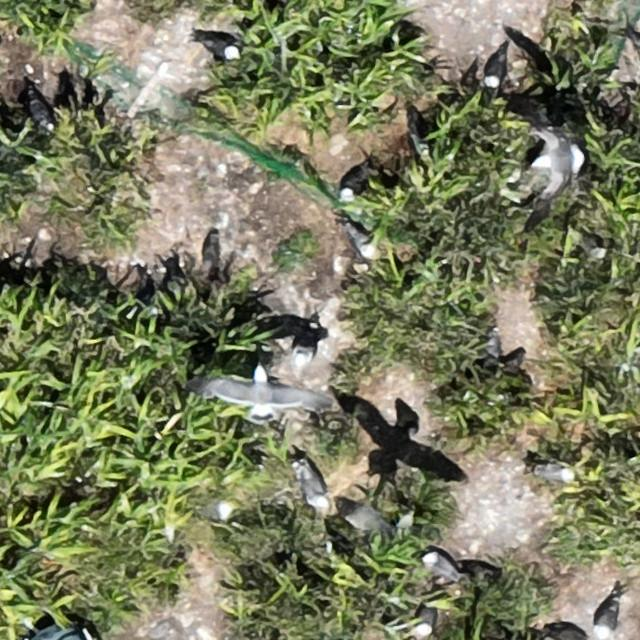F: (208, 362, 318, 429), (532, 125, 584, 192)
umineko: (291, 325, 318, 380), (527, 457, 574, 483), (298, 464, 324, 505), (197, 496, 232, 520), (413, 603, 439, 635), (424, 552, 454, 579), (340, 166, 365, 198), (347, 227, 372, 257), (595, 602, 617, 636), (202, 39, 238, 59), (30, 94, 50, 128), (484, 53, 503, 86)
